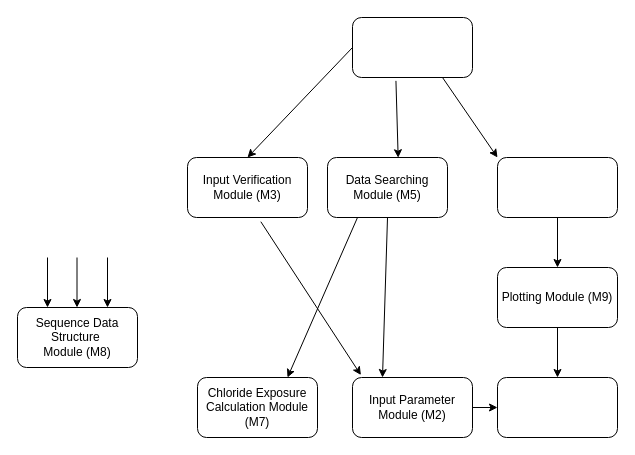
The diagram is 635 pixels wide and 455 high, and some of its shapes have lost their labels. The centre of each missing label's shape, as x and y in pixels:
"Control Module (M4)" goes at [412,47].
"Hardware Hiding Module (M1)" goes at [557,407].
"Output Visualization Module (M6)" goes at [557,187].
